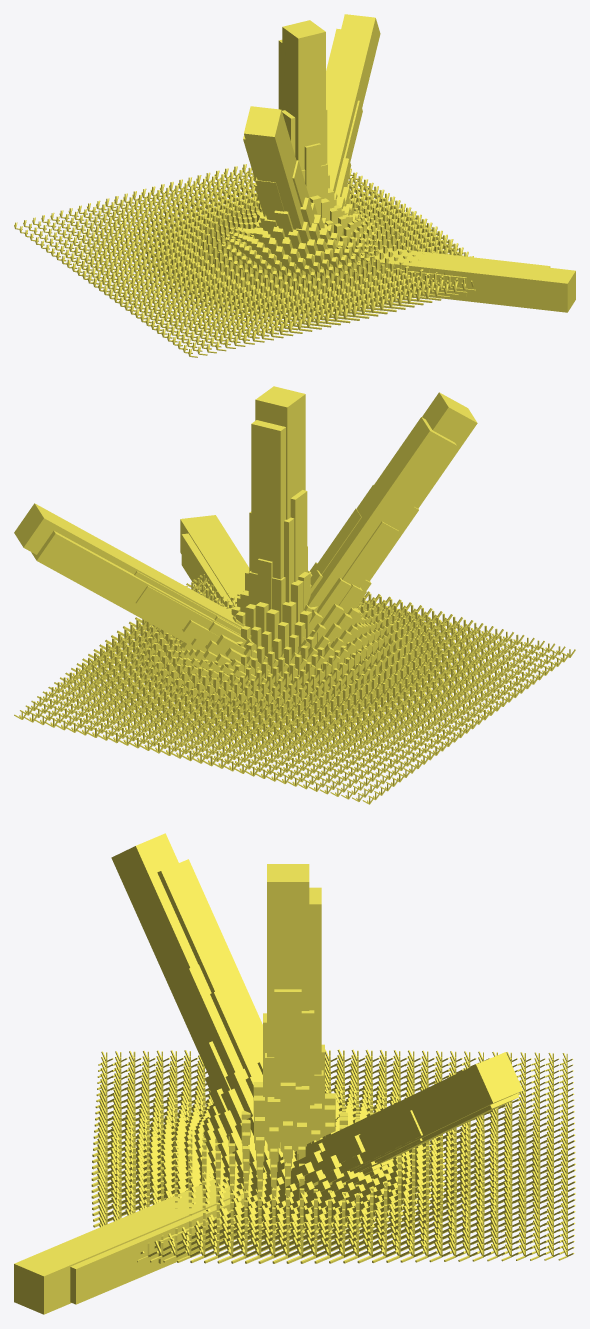
The model's file is Elements_ElementInstance.glb.
3 renders of one model, top to bottom at view 1: azimuth 30°, elevation 25°; view 2: azimuth 150°, elevation 25°; view 3: azimuth 270°, elevation 25°, orthographic. The views are drawn at different scales.
Parts seen in each view (by area): view 1: ac7e55c8-4e1d-4c97-9348-a51b149b41f3_mesh (×7); view 2: ac7e55c8-4e1d-4c97-9348-a51b149b41f3_mesh (×13); view 3: ac7e55c8-4e1d-4c97-9348-a51b149b41f3_mesh (×11).
Boxes of the visible parts, bbox=[...] form: ac7e55c8-4e1d-4c97-9348-a51b149b41f3_mesh (×7): bbox=[243, 14, 575, 312]; ac7e55c8-4e1d-4c97-9348-a51b149b41f3_mesh (×13): bbox=[14, 386, 477, 665]; ac7e55c8-4e1d-4c97-9348-a51b149b41f3_mesh (×11): bbox=[14, 833, 522, 1314].
Size of the model in its own units: 60.14 by 38.65 by 60.39.
